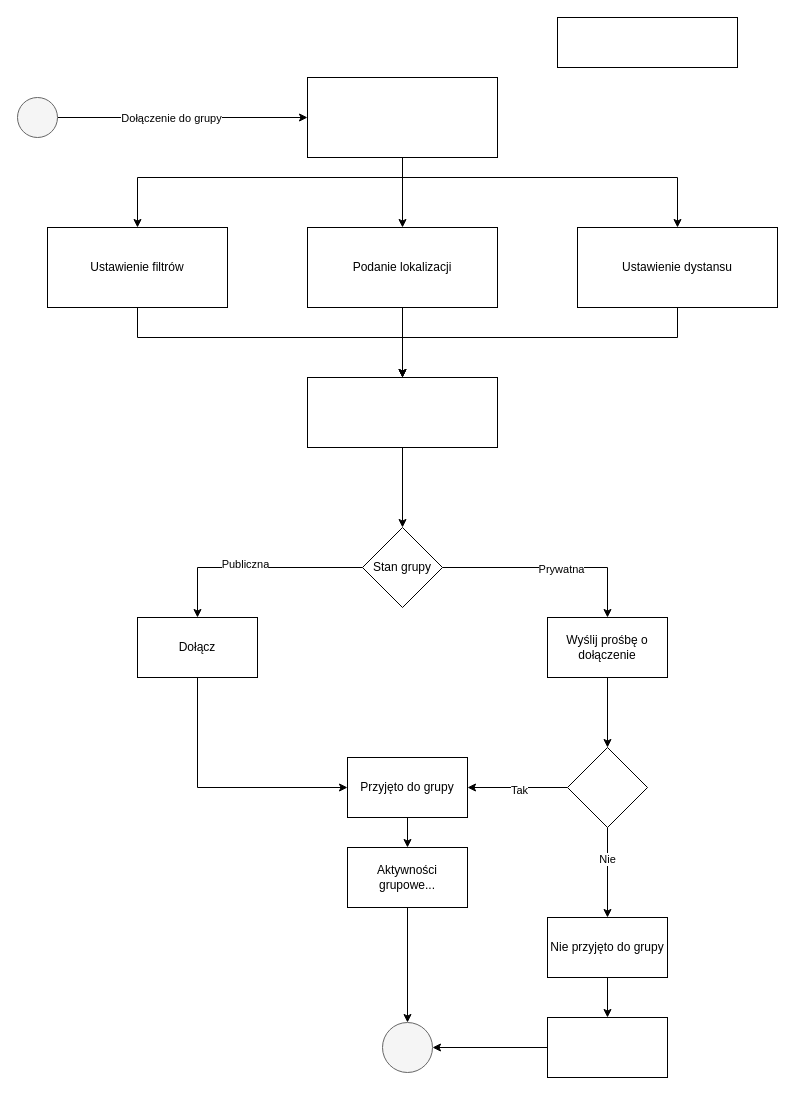
This 795x1095 diagram has some shape labels left out. Here are the shapes that lost their labels. From the top down, the centre of each, then its label:
the point at 647,42: Dawid Niedziński
the point at 402,117: Znajdź Grupę
the point at 402,412: Wyświetlenie grup
the point at 607,787: Czy przyjęto
the point at 607,1047: Szukaj innej grupy...
